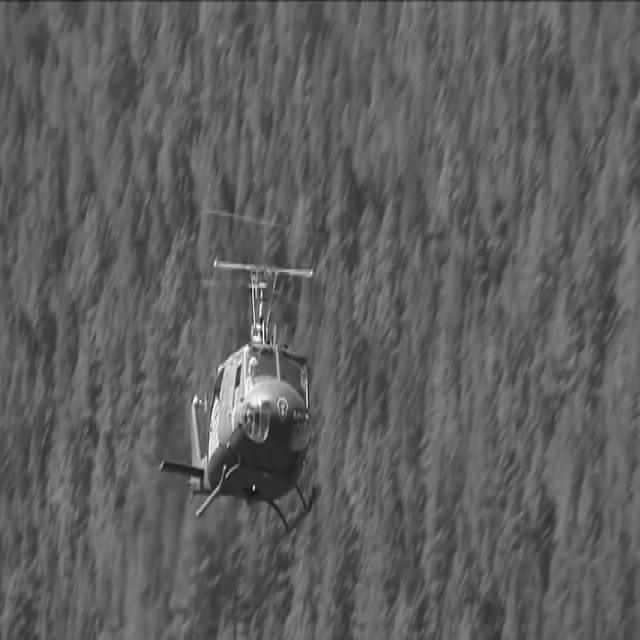helikopter: (158, 248, 336, 544)
